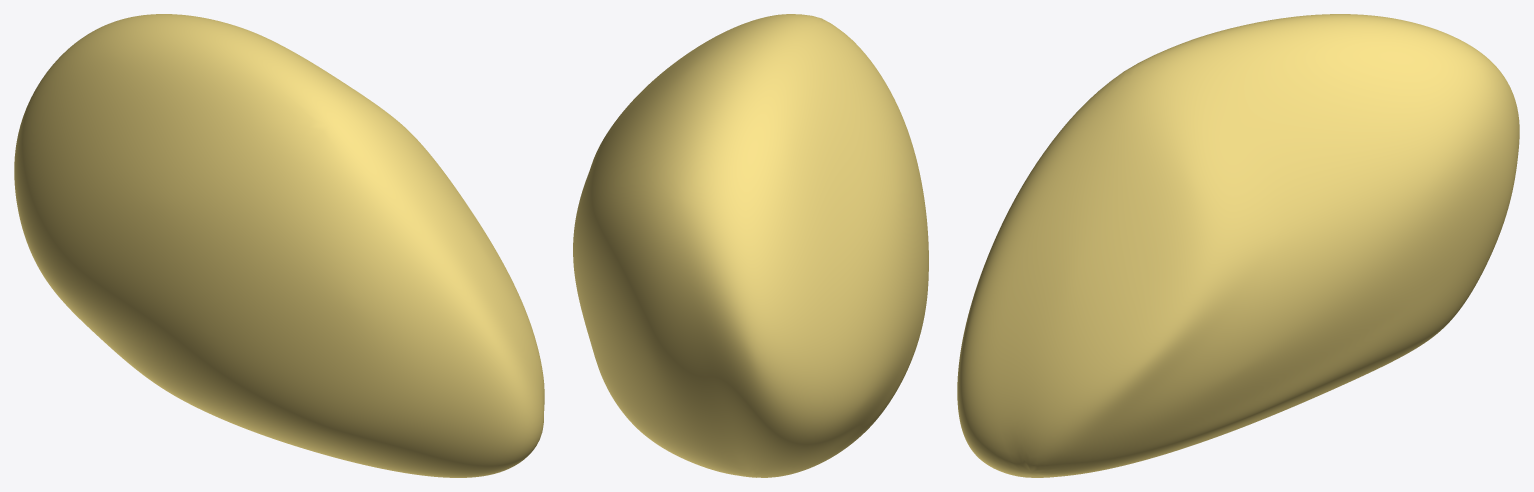
The picture shows the model from 3 angles, left to right: view 1: azimuth 30°, elevation 25°; view 2: azimuth 150°, elevation 25°; view 3: azimuth 270°, elevation 25°; orthographic projection. The views are drawn at different scales.
Parts seen in each view (by area): view 1: AG_CF; view 2: AG_CF; view 3: AG_CF.
Boxes of the visible parts, left/top/right/bottom form: AG_CF: left=14, top=14, right=544, bottom=477; AG_CF: left=573, top=14, right=928, bottom=477; AG_CF: left=957, top=14, right=1519, bottom=477.
Bounding box in the file's own units: 6.79 × 7.18 × 9.38.
